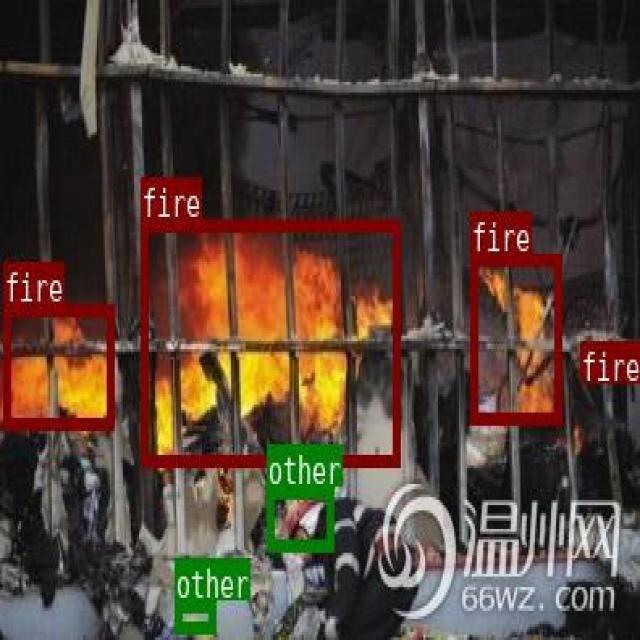fire: (139, 218, 398, 465), (470, 252, 560, 423), (2, 304, 112, 427), (579, 341, 602, 366)
